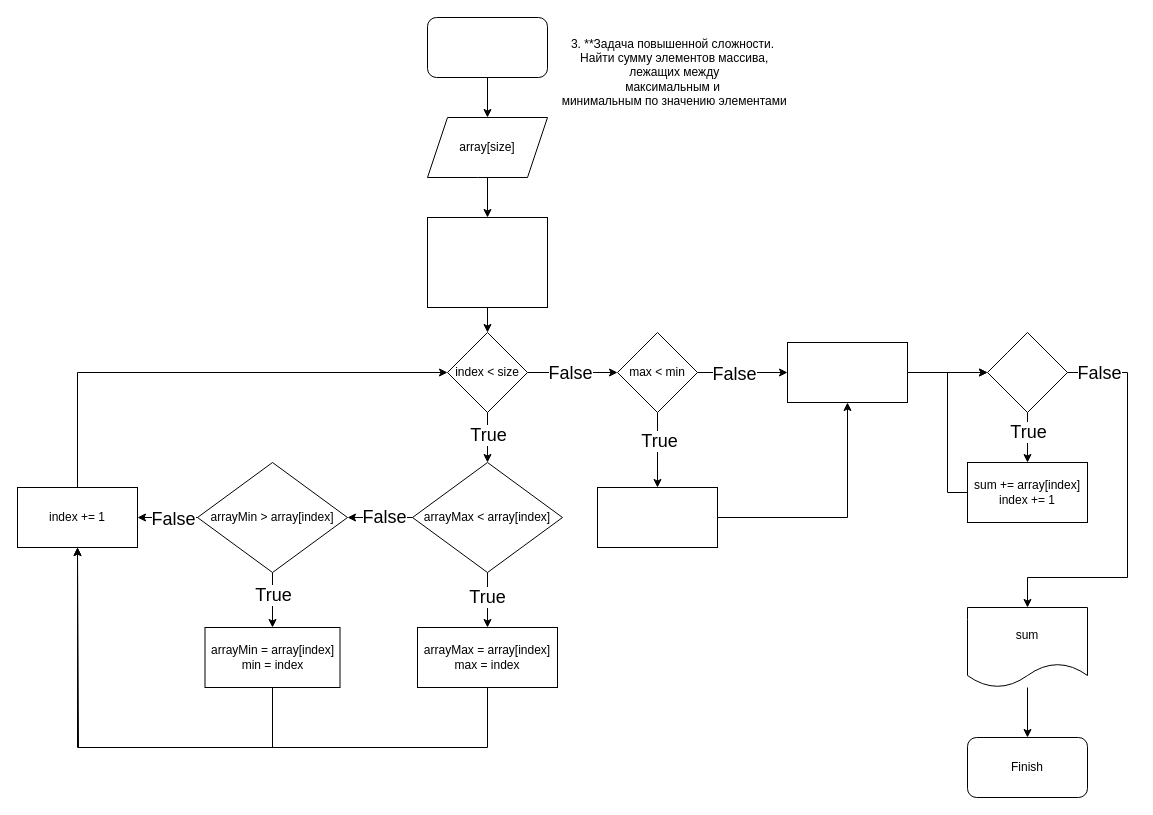
The diagram is 1153 pixels wide and 815 high, and some of its shapes have lost their labels. Here are the shapes that lost their labels. From the top down, the centre of each, then its label:
point (487, 47): Start
point (487, 262): arrayMax = array[0] arrayMin = array[0] max = 0 min = 0 index = 1 sum = 0
point (847, 372): index = min + 1
point (1027, 372): index < max
point (657, 517): temp = max max = min min = temp
